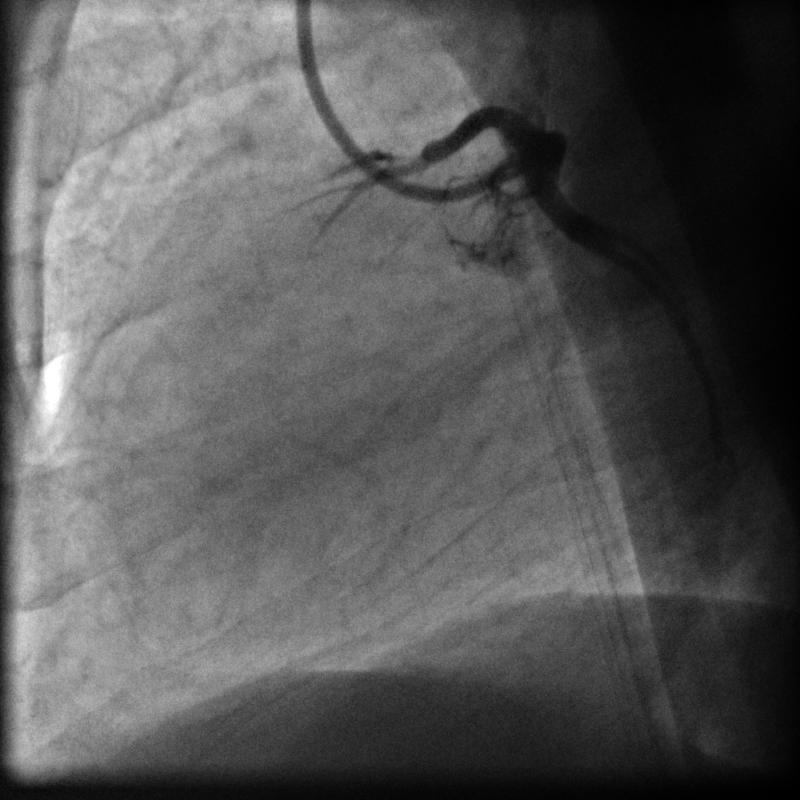Stenosis: (366, 149, 429, 191)
